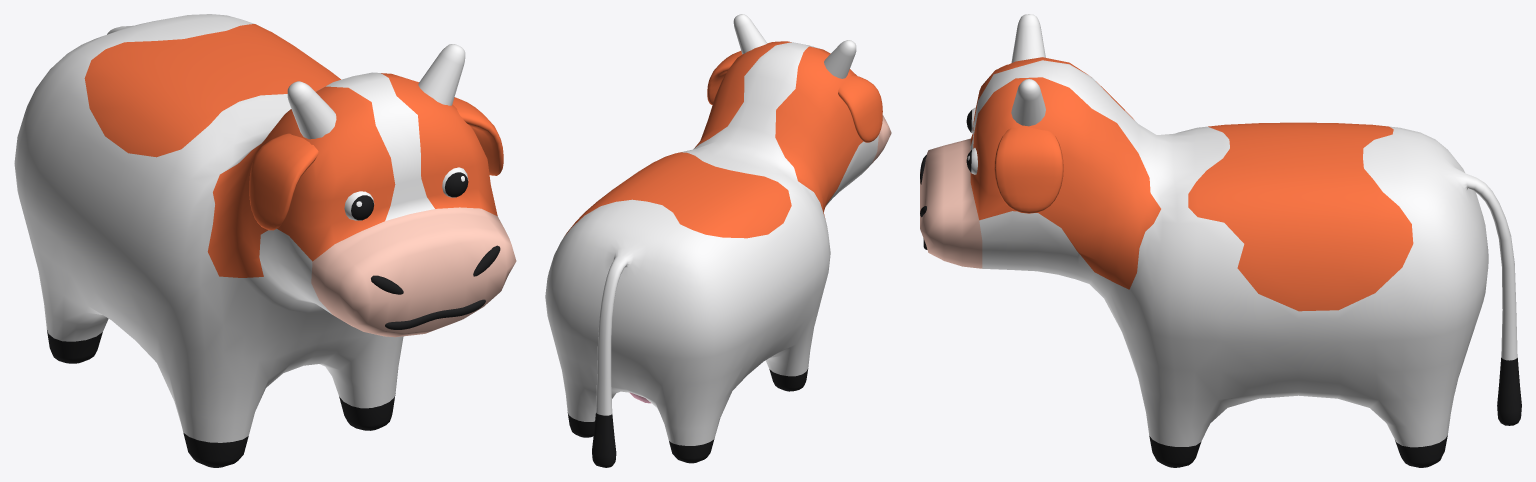
Rendered from Farm_5_Cow_3.glb.
3 renders of one model, left to right at view 1: azimuth 30°, elevation 25°; view 2: azimuth 150°, elevation 25°; view 3: azimuth 270°, elevation 25°, orthographic. The views are drawn at different scales.
Visible parts, largest first — view 1: Farm_5_Cow_3; view 2: Farm_5_Cow_3; view 3: Farm_5_Cow_3.
Part boxes in pixels (left/top/right/bottom): Farm_5_Cow_3: left=14, top=14, right=516, bottom=467; Farm_5_Cow_3: left=545, top=14, right=891, bottom=467; Farm_5_Cow_3: left=920, top=14, right=1521, bottom=467.
Size of the model in its own units: 1.27 by 1.87 by 2.66.
Materials: 1 (1 with a texture image).
